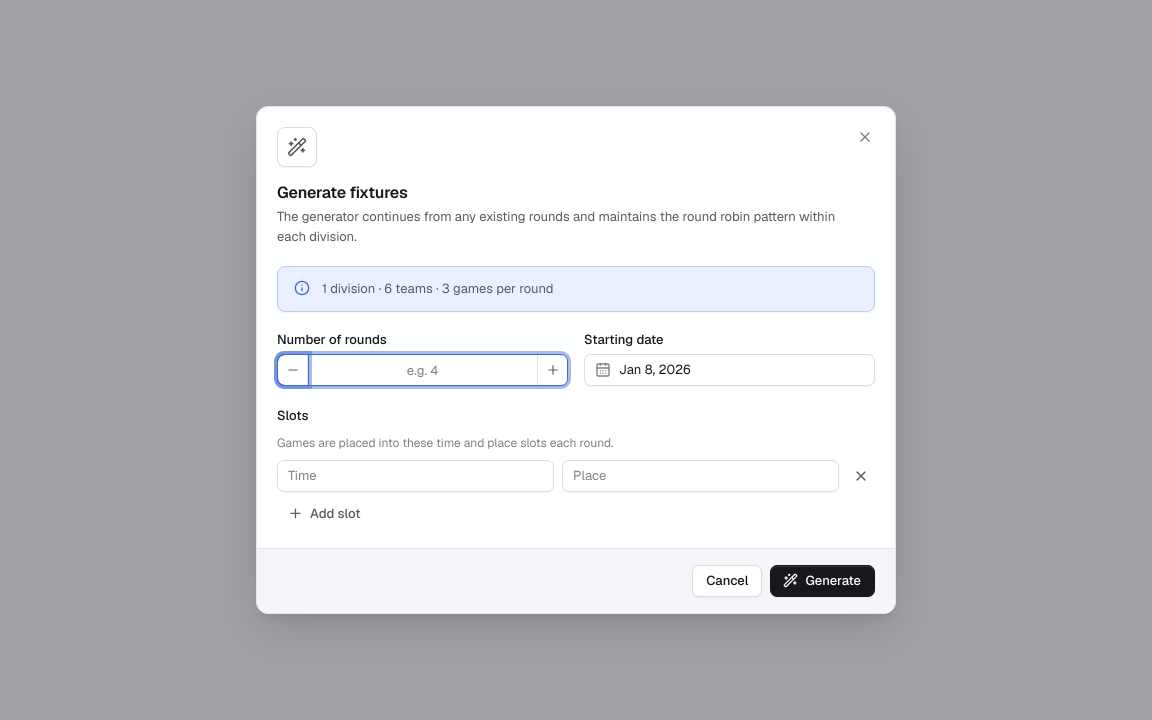
Test: FixtureGenerateDialog › needs enough slots for every game in a round
Type "1" into the number field labelled "Number of rounds" at (422,370), box [308,355,537,385]
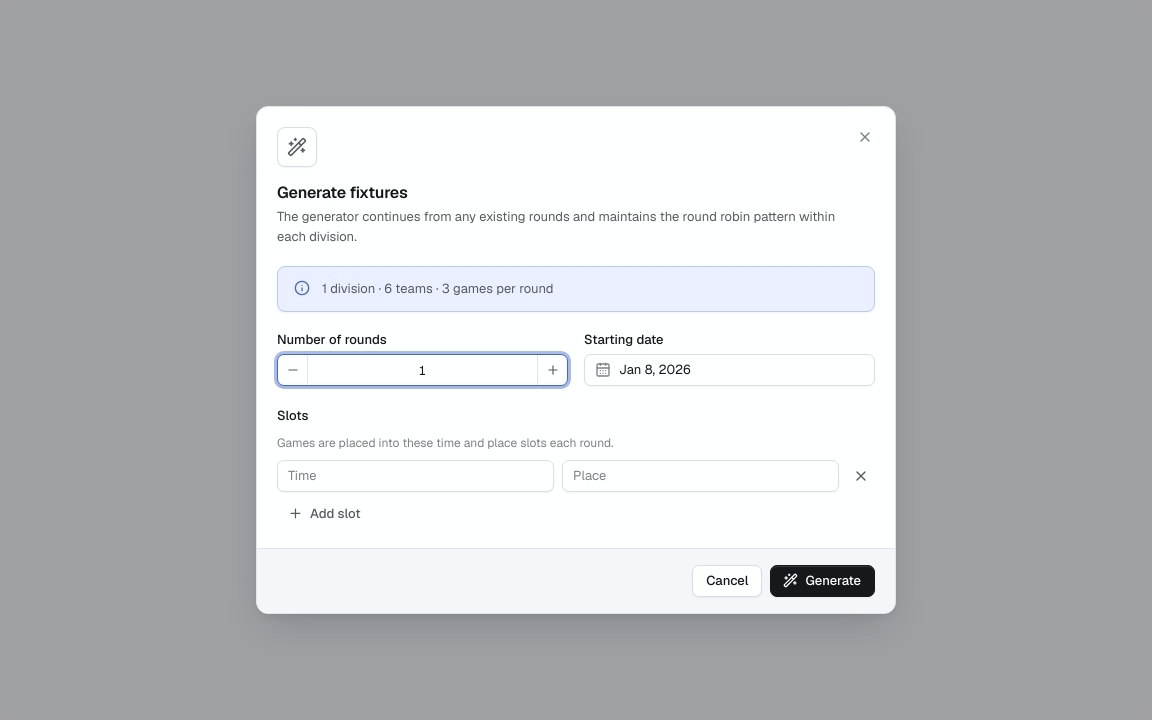
Press Tab
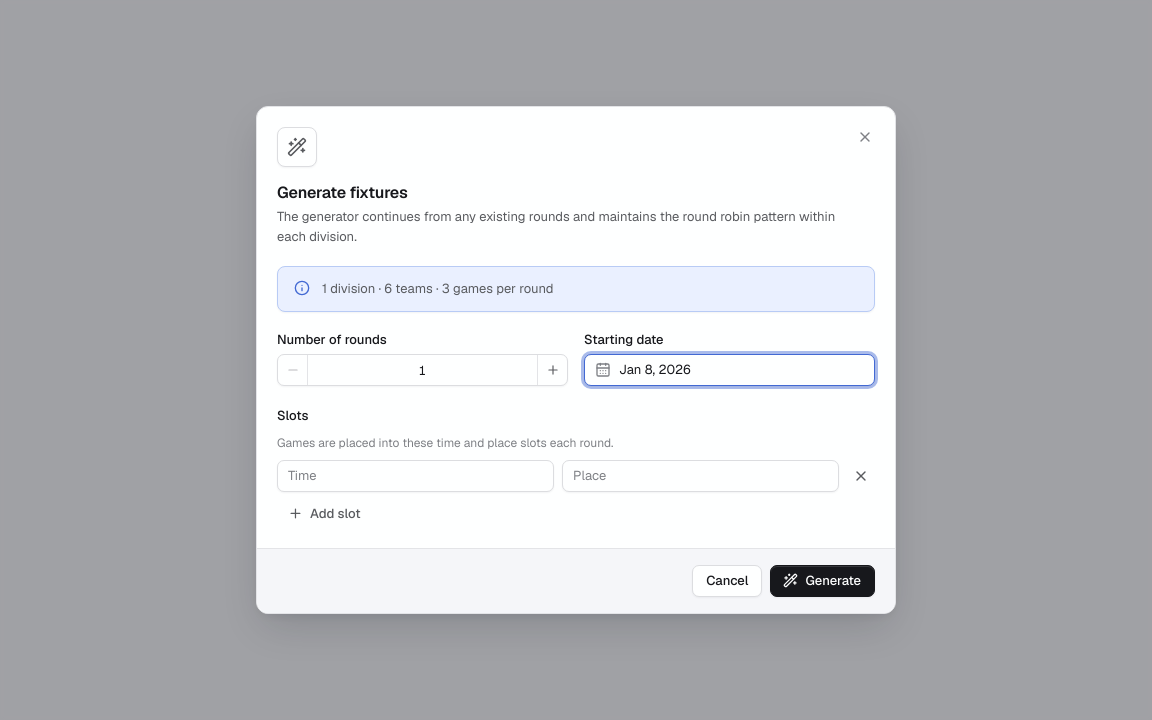
Type "6pm" into the field named "Slot 1 time" at (416,476), box [288,461,543,491]
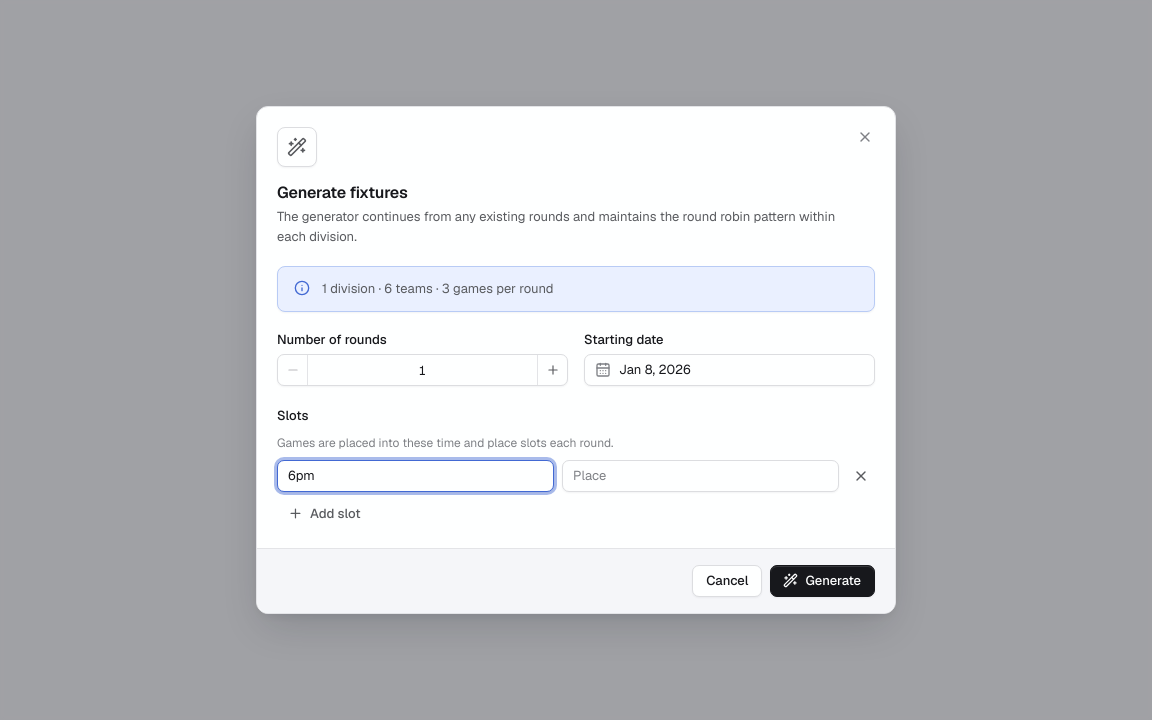
Type "Field 1" into the field named "Slot 1 place" at (700,476), box [573,461,828,491]
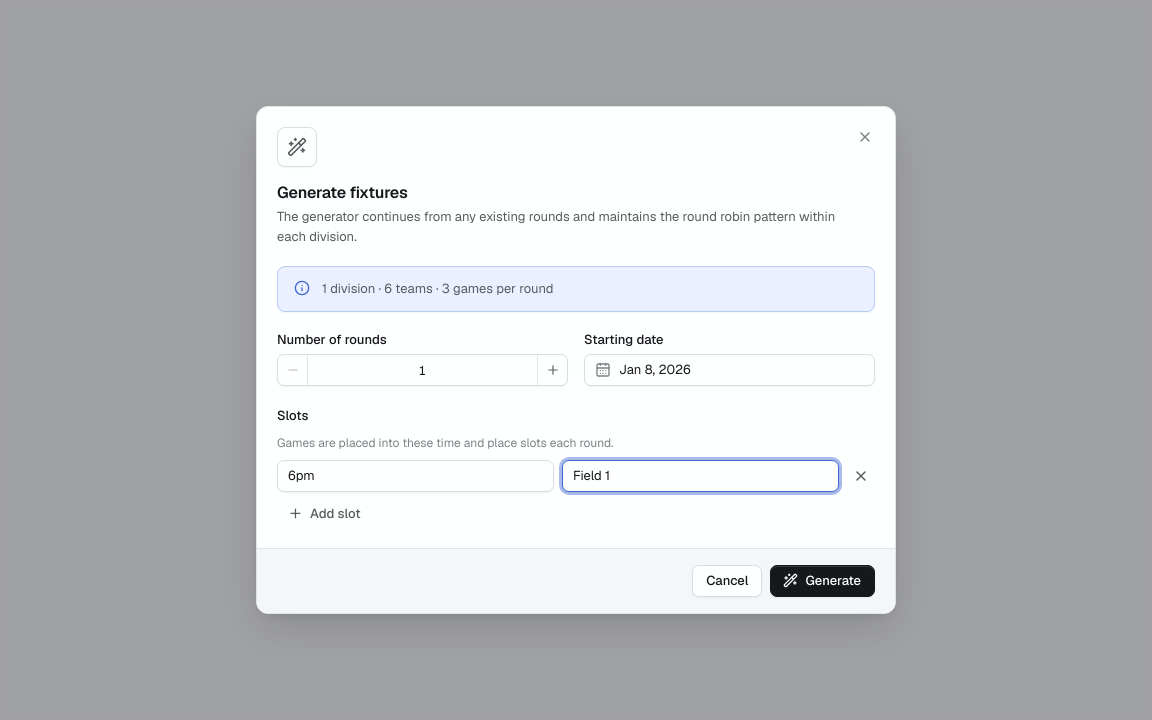
Click the button "Generate" at (823,581), box [770,565,875,597]
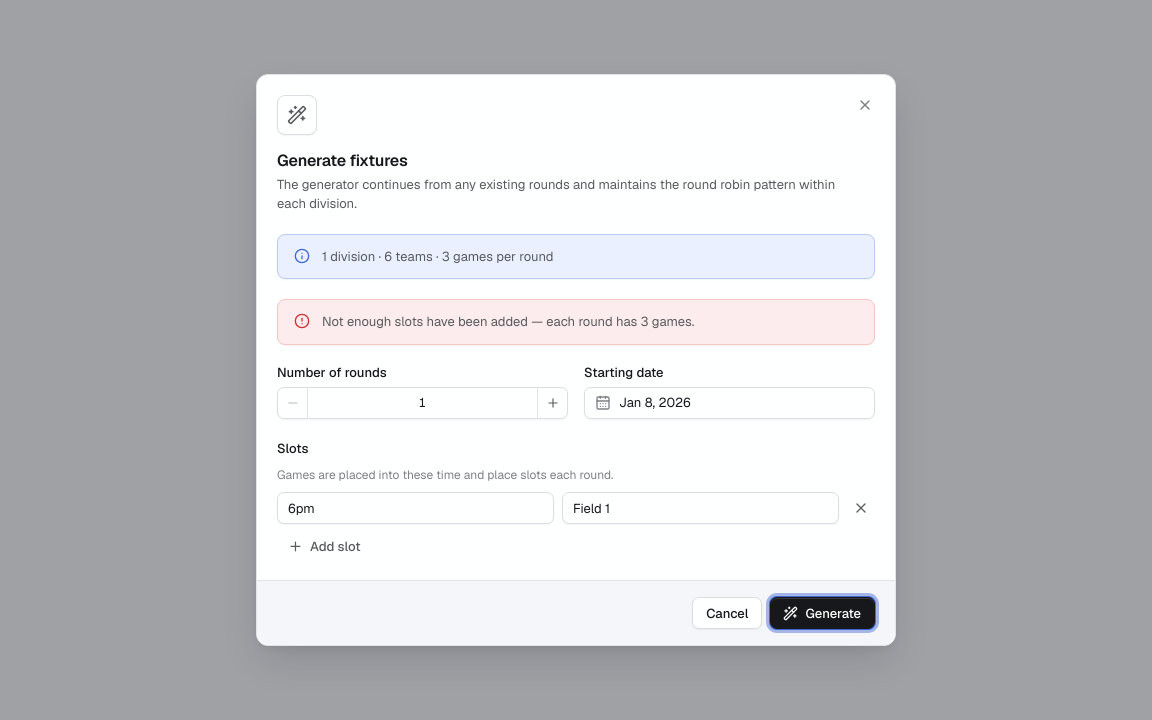
Result: the text "Not enough slots have been added — each round has 3 games." is shown at [322,313,694,330]
